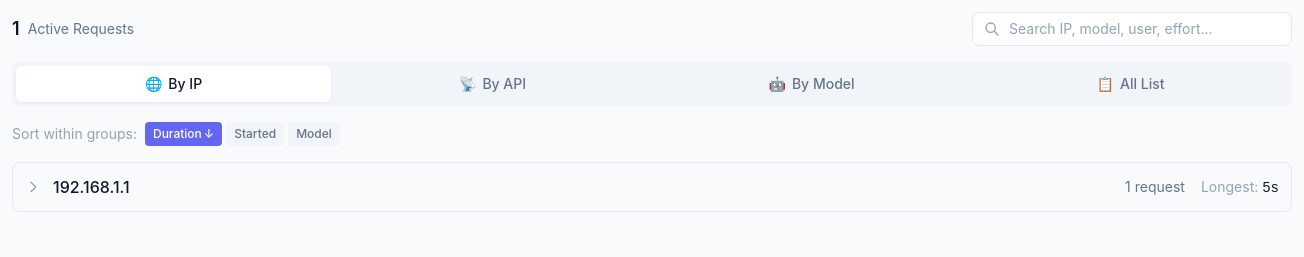
LiveRequestsPanel - Duration Formatting › updates duration every second
Click the text "All List".
click(1142, 84)  # box [1120,74,1164,94]
Wait 3000 ms
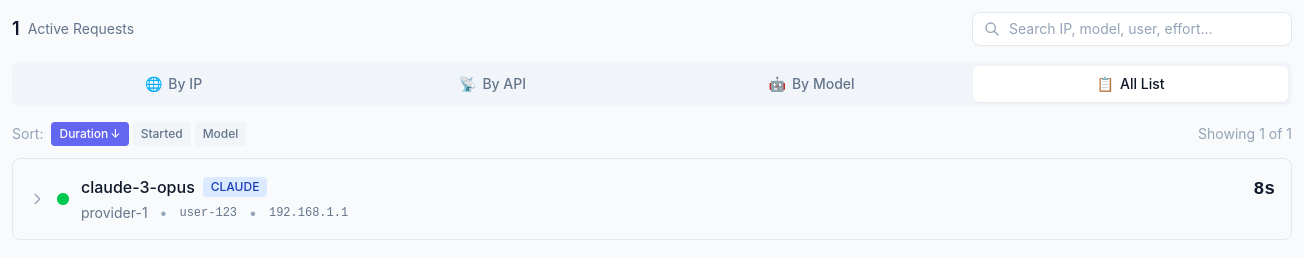
Expected: the text "8s" is shown, [1253,179,1275,199]
